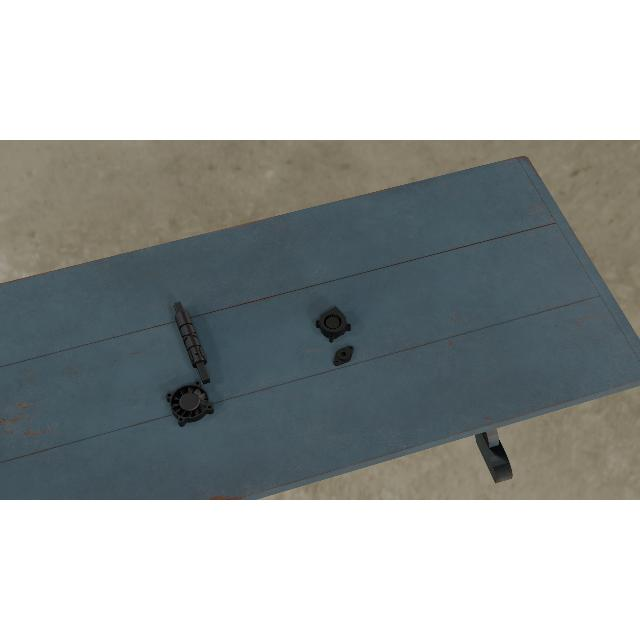Pieza1: (170, 298, 214, 388)
Pieza2: (329, 340, 359, 370)
Pieza3: (315, 306, 353, 344)
Pieza4: (164, 379, 216, 429)
